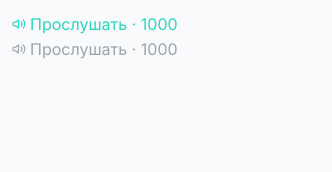
Test: плеер ответа › второй ответ глушит первый
Click the 1st button "Прослушать · 1000" at point(95, 24), box [12,12,178,36]
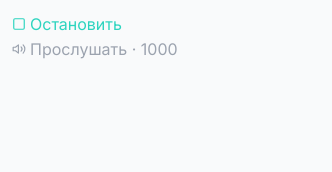
Click the button "Прослушать · 1000" at point(95, 49), box [12,37,178,61]
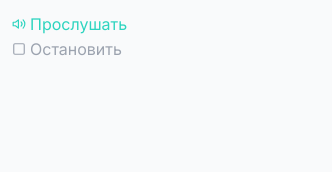
Expected: the button "Прослушать" is shown, [12,12,127,36]
Expected: the button "Остановить" is shown, [12,37,122,61]
